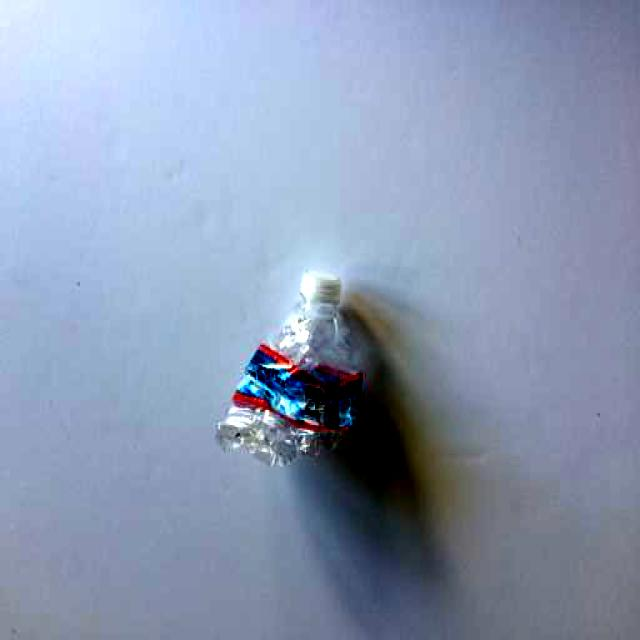Plastic: (212, 269, 367, 472)
